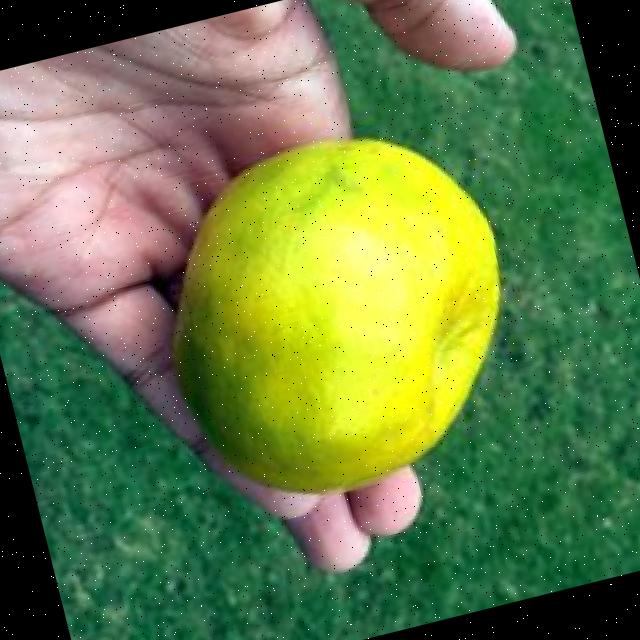lemon: (174, 141, 498, 489)
